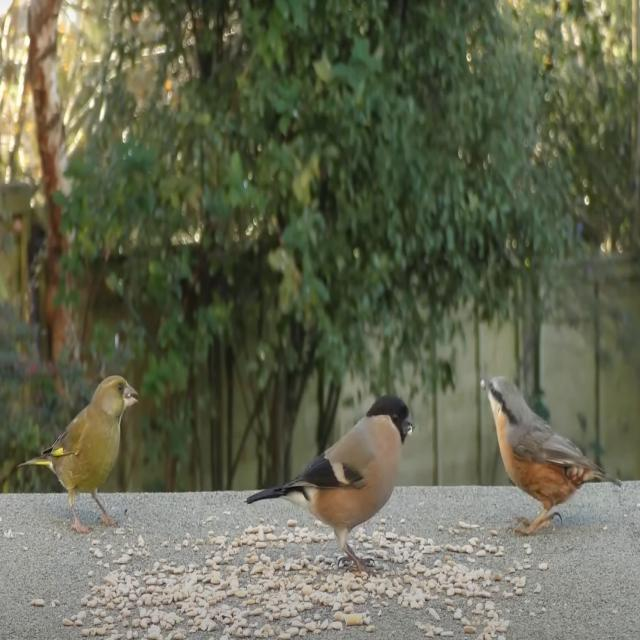beak: (402, 409, 416, 437), (124, 381, 138, 409), (479, 371, 490, 399)
bird: (247, 372, 416, 574), (477, 363, 620, 542), (19, 373, 140, 532)
